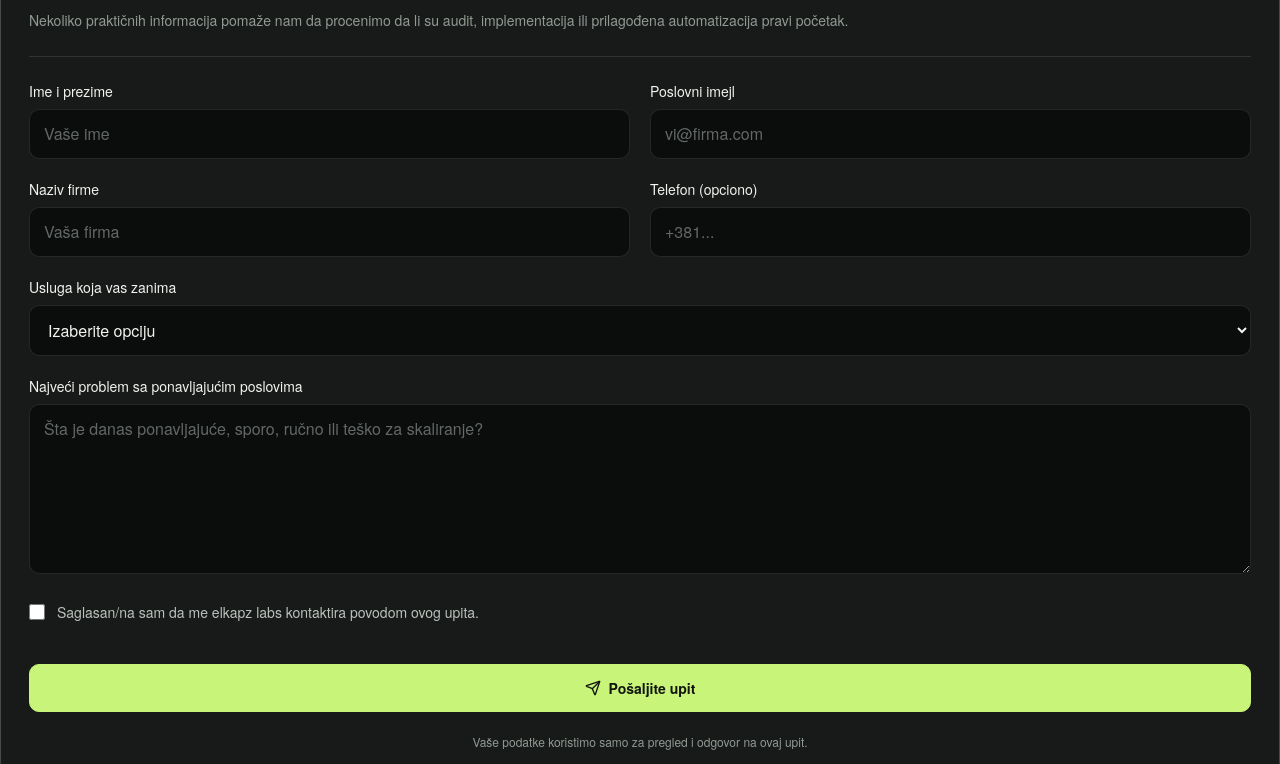
Test case: ContactForm › shows required-field errors in Serbian Latin
(page scrolled)
What coordinates should you click on to do the following:
click the button "Pošaljite upit"
I would click on:
 (640, 688)
Its box is [29,664,1251,712].
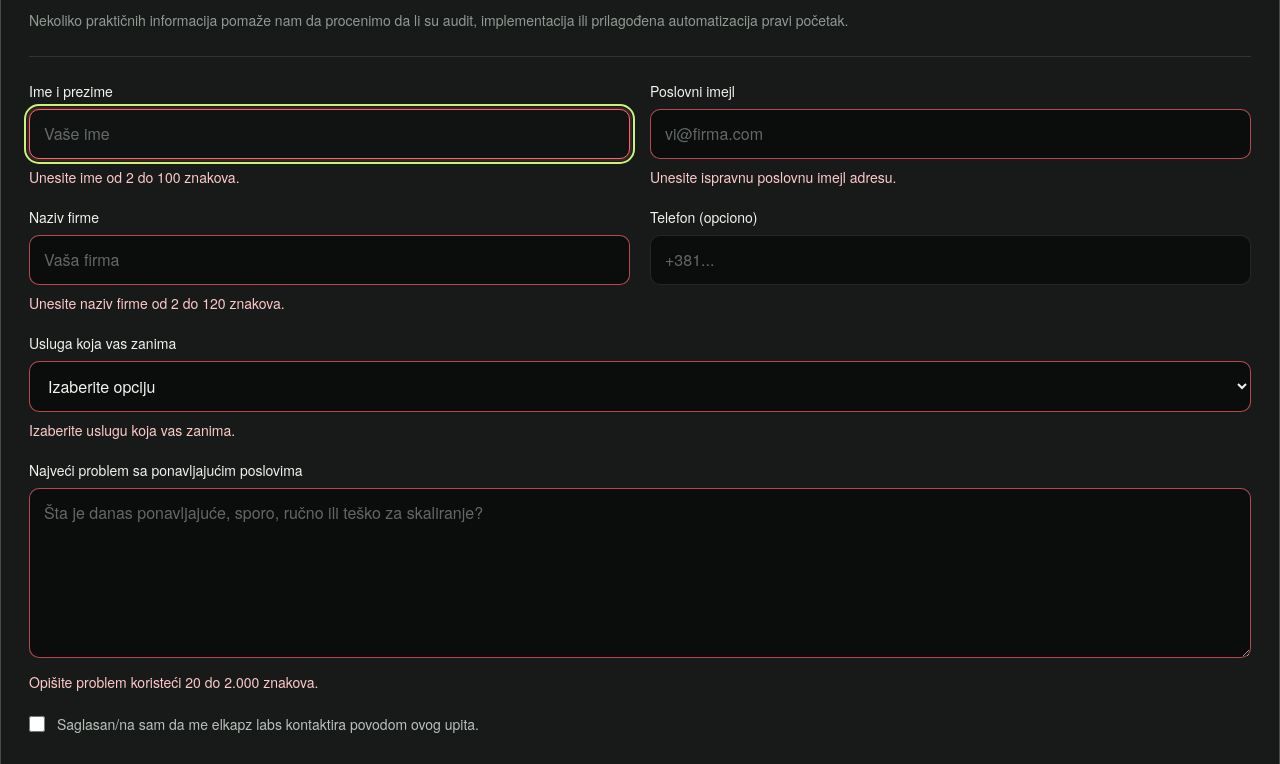
Check: the text "Unesite ime od 2 do 100 znakova." is shown, box [29,167,240,187]
Check: the text "Unesite ispravnu poslovnu imejl adresu." is shown, box [650,167,896,187]
